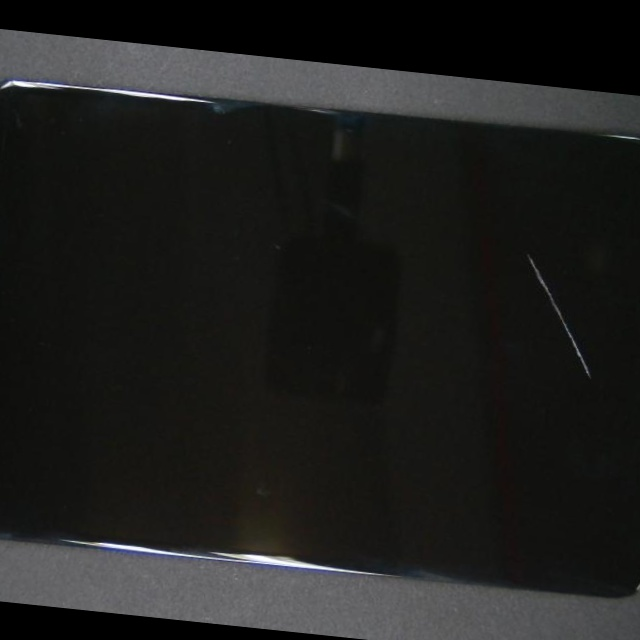scratch: (255, 110, 640, 324)
